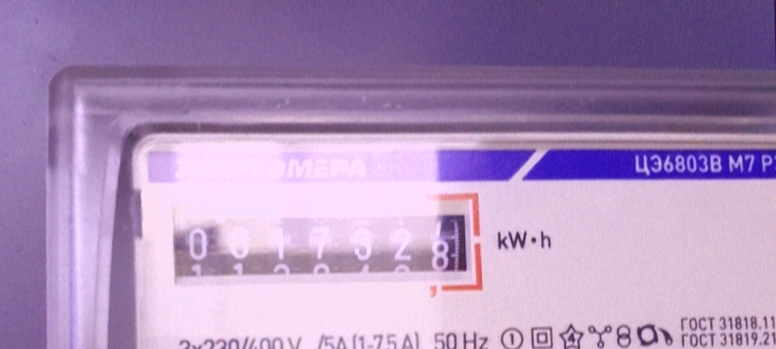0: (186, 223, 209, 261), (228, 224, 249, 258)
1: (270, 223, 286, 260)
2: (389, 226, 411, 262)
3: (350, 225, 373, 261)
7: (307, 222, 332, 260)
8: (428, 236, 448, 271)
screen: (161, 192, 486, 300)
